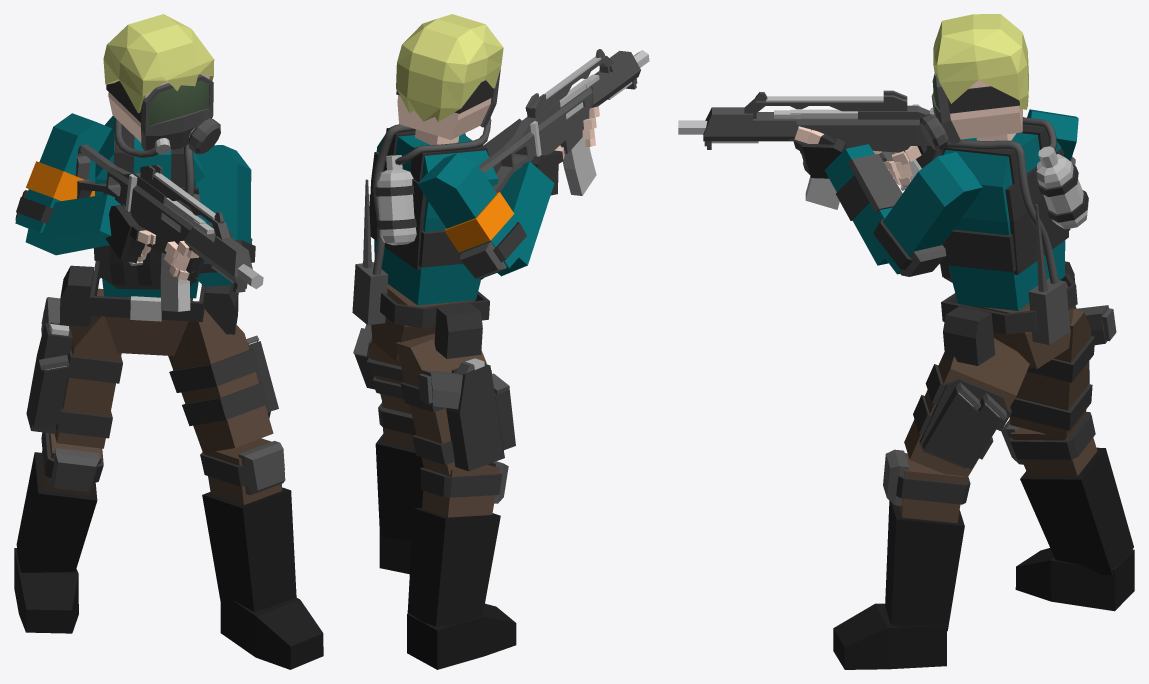
The model's file is LPGTest.glb.
3 renders of one model, left to right at view 1: azimuth 30°, elevation 25°; view 2: azimuth 150°, elevation 25°; view 3: azimuth 270°, elevation 25°, orthographic. The views are drawn at different scales.
Visible parts, largest first — view 1: armorV2.001; view 2: armorV2.001; view 3: armorV2.001.
Part boxes in pixels (x1,y1,x2,y2): armorV2.001: (14, 14, 323, 669); armorV2.001: (352, 14, 649, 669); armorV2.001: (678, 14, 1134, 669).
Bounding box in the file's own units: 0.566 × 1.59 × 1.1.
